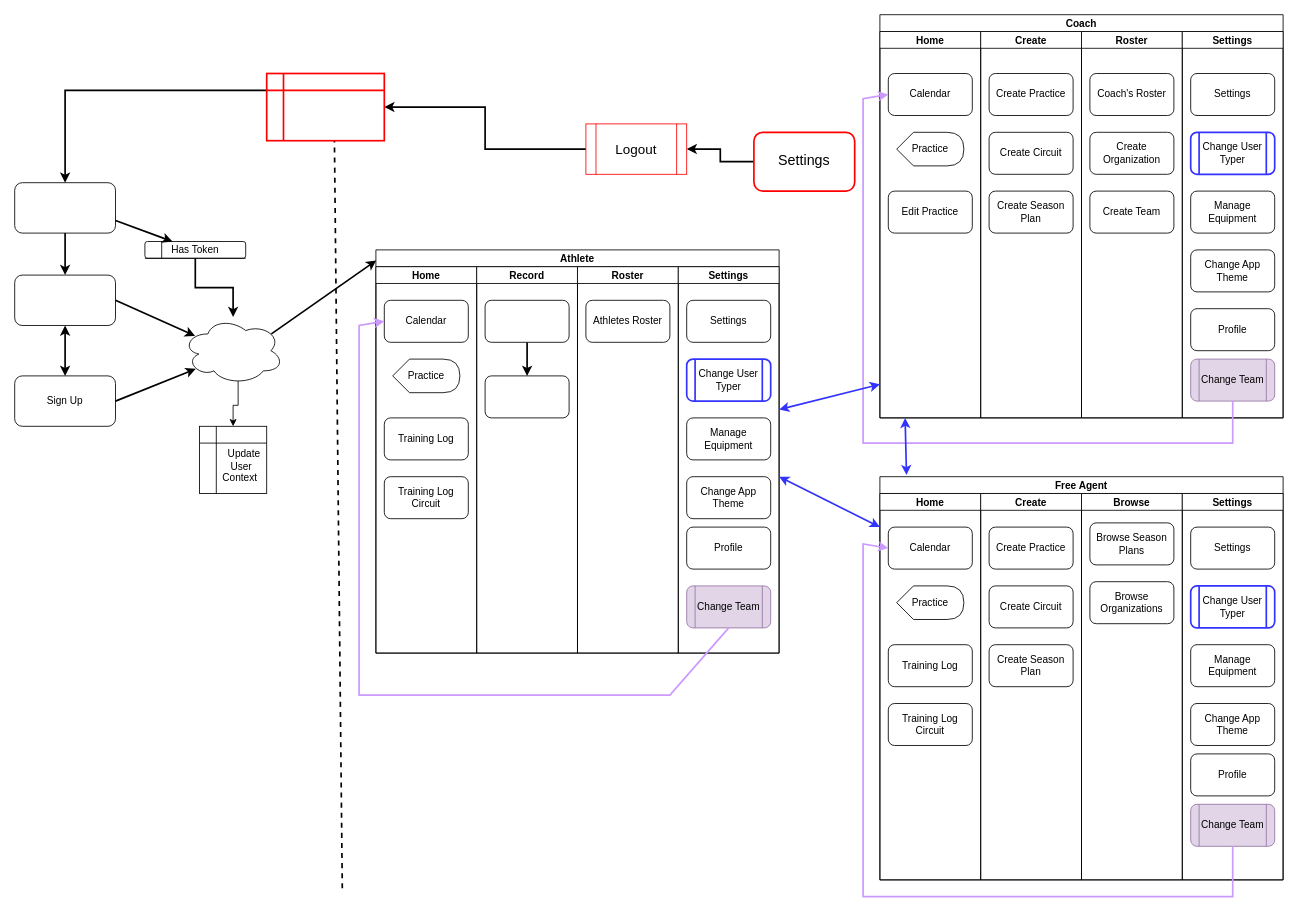
Some shapes in this 1298 by 919 pixel diagram are drawn without their labels. The shapes that lost their labels are listed below. From the top down, each one's centre as x and y in pixels, then its label:
At point (325, 106): "Delete Local User Data".
At point (65, 207): "Loading".
At point (65, 300): "Login".
At point (526, 320): "Record Setup".
At point (233, 350): "Auth?".
At point (526, 396): "Record Event".
